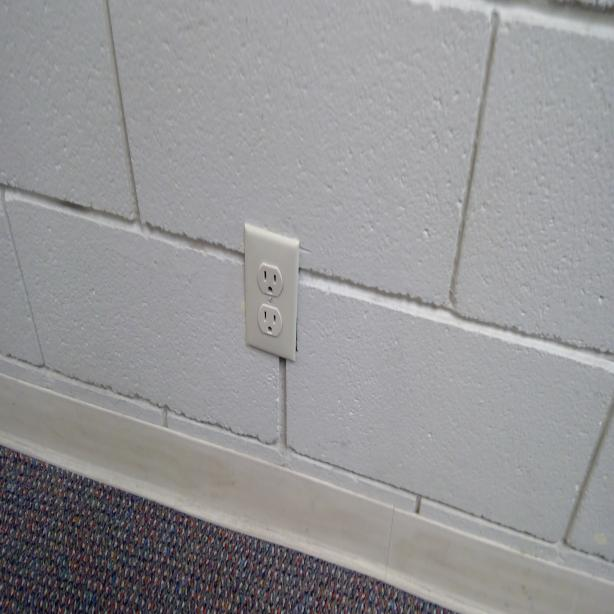typeb: (258, 262, 283, 298), (256, 304, 281, 340)
